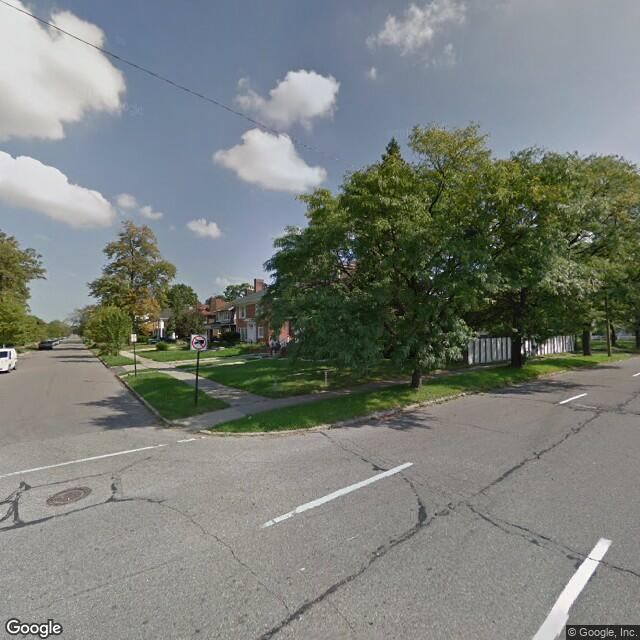litter: (382, 412, 394, 422), (245, 412, 253, 416)
